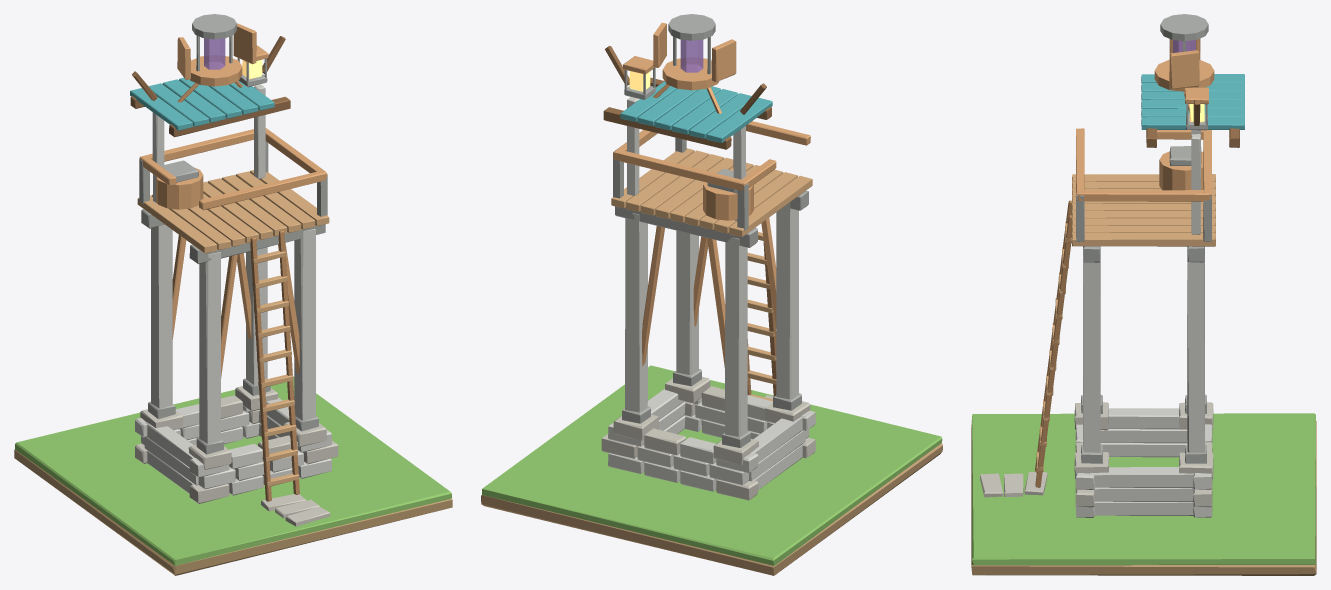
Rendered from tower_l06_active_LOD1.glb.
3 renders of one model, left to right at view 1: azimuth 30°, elevation 25°; view 2: azimuth 150°, elevation 25°; view 3: azimuth 270°, elevation 25°, orthographic. The views are drawn at different scales.
Visible parts, largest first — view 1: tower_l06_grass_tile_tower_l06_active_LOD1_tmp, tower_l06_earth_tile_tower_l06_active_LOD1_tmp, post_-0.61_-0.54_tower_l06_active_LOD1_tmp, post_-0.61_0.54_tower_l06_active_LOD1_tmp, post_0.61_-0.54_tower_l06_active_LOD1_tmp, post_0.61_0.54_tower_l06_active_LOD1_tmp, ladder_rail_-0.18_tower_l06_active_LOD1_tmp, balcony_rail_-0.66_tower_l06_active_LOD1_tmp, ladder_rail_0.18_tower_l06_active_LOD1_tmp, relay_drum_tower_l06_active_LOD1_tmp, deck_board_0_tower_l06_active_LOD1_tmp, deck_bearer_-0.54_tower_l06_active_LOD1_tmp (+32 smaller); view 2: tower_l06_grass_tile_tower_l06_active_LOD1_tmp, tower_l06_earth_tile_tower_l06_active_LOD1_tmp, post_-0.61_0.54_tower_l06_active_LOD1_tmp, post_-0.61_-0.54_tower_l06_active_LOD1_tmp, post_0.61_0.54_tower_l06_active_LOD1_tmp, post_0.61_-0.54_tower_l06_active_LOD1_tmp, balcony_rail_0.66_tower_l06_active_LOD1_tmp, deck_bearer_0.54_tower_l06_active_LOD1_tmp, deck_board_0_tower_l06_active_LOD1_tmp, relay_drum_tower_l06_active_LOD1_tmp, brace_0.61_0.54_tower_l06_active_LOD1_tmp, beacon_crown_tower_l06_active_LOD1_tmp (+33 smaller); view 3: tower_l06_grass_tile_tower_l06_active_LOD1_tmp, tower_l06_earth_tile_tower_l06_active_LOD1_tmp, post_0.61_0.54_tower_l06_active_LOD1_tmp, post_0.61_-0.54_tower_l06_active_LOD1_tmp, stone_return_2_0.72_tower_l06_active_LOD1_tmp, deck_board_8_tower_l06_active_LOD1_tmp, ladder_rail_0.18_tower_l06_active_LOD1_tmp, balcony_side_rail_tower_l06_active_LOD1_tmp, stone_return_2_-0.72_tower_l06_active_LOD1_tmp, stone_return_0_0.72_tower_l06_active_LOD1_tmp, stone_return_1_0.72_tower_l06_active_LOD1_tmp, stone_return_1_-0.72_tower_l06_active_LOD1_tmp (+25 smaller).
Part boxes in pixels (x1,y1,x2,y2): tower_l06_grass_tile_tower_l06_active_LOD1_tmp: (15,377,451,565); tower_l06_earth_tile_tower_l06_active_LOD1_tmp: (14,449,452,575); post_-0.61_-0.54_tower_l06_active_LOD1_tmp: (199,252,220,443); post_-0.61_0.54_tower_l06_active_LOD1_tmp: (151,224,172,408); post_0.61_-0.54_tower_l06_active_LOD1_tmp: (294,229,315,420); post_0.61_0.54_tower_l06_active_LOD1_tmp: (246,247,267,385); ladder_rail_-0.18_tower_l06_active_LOD1_tmp: (250,237,271,501); balcony_rail_-0.66_tower_l06_active_LOD1_tmp: (199,171,327,210); ladder_rail_0.18_tower_l06_active_LOD1_tmp: (278,230,299,494); relay_drum_tower_l06_active_LOD1_tmp: (156,167,203,209); deck_board_0_tower_l06_active_LOD1_tmp: (137,195,217,253); deck_bearer_-0.54_tower_l06_active_LOD1_tmp: (189,224,325,264); tower_l06_grass_tile_tower_l06_active_LOD1_tmp: (482,365,942,566); tower_l06_earth_tile_tower_l06_active_LOD1_tmp: (481,443,942,575); post_-0.61_0.54_tower_l06_active_LOD1_tmp: (725,237,747,436); post_-0.61_-0.54_tower_l06_active_LOD1_tmp: (776,202,798,399); post_0.61_0.54_tower_l06_active_LOD1_tmp: (625,213,647,412); post_0.61_-0.54_tower_l06_active_LOD1_tmp: (676,230,698,374); balcony_rail_0.66_tower_l06_active_LOD1_tmp: (613,149,745,190); deck_bearer_0.54_tower_l06_active_LOD1_tmp: (615,206,757,247); deck_board_0_tower_l06_active_LOD1_tmp: (729,175,812,236); relay_drum_tower_l06_active_LOD1_tmp: (703,182,753,220); brace_0.61_0.54_tower_l06_active_LOD1_tmp: (642,226,664,366); beacon_crown_tower_l06_active_LOD1_tmp: (662,58,719,90); tower_l06_grass_tile_tower_l06_active_LOD1_tmp: (972,413,1315,565); tower_l06_earth_tile_tower_l06_active_LOD1_tmp: (971,420,1316,575); post_0.61_0.54_tower_l06_active_LOD1_tmp: (1187,247,1204,452); post_0.61_-0.54_tower_l06_active_LOD1_tmp: (1083,248,1100,452); stone_return_2_0.72_tower_l06_active_LOD1_tmp: (1089,467,1193,488); deck_board_8_tower_l06_active_LOD1_tmp: (1072,232,1215,246); ladder_rail_0.18_tower_l06_active_LOD1_tmp: (1035,215,1071,487); balcony_side_rail_tower_l06_active_LOD1_tmp: (1078,190,1209,201); stone_return_2_-0.72_tower_l06_active_LOD1_tmp: (1109,408,1179,429); stone_return_0_0.72_tower_l06_active_LOD1_tmp: (1094,501,1193,515); stone_return_1_0.72_tower_l06_active_LOD1_tmp: (1094,487,1193,501); stone_return_1_-0.72_tower_l06_active_LOD1_tmp: (1100,429,1187,443).
Bounding box in the file's own units: 3.6 × 5.49 × 3.58.
